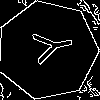Y: (22, 25, 75, 68)
